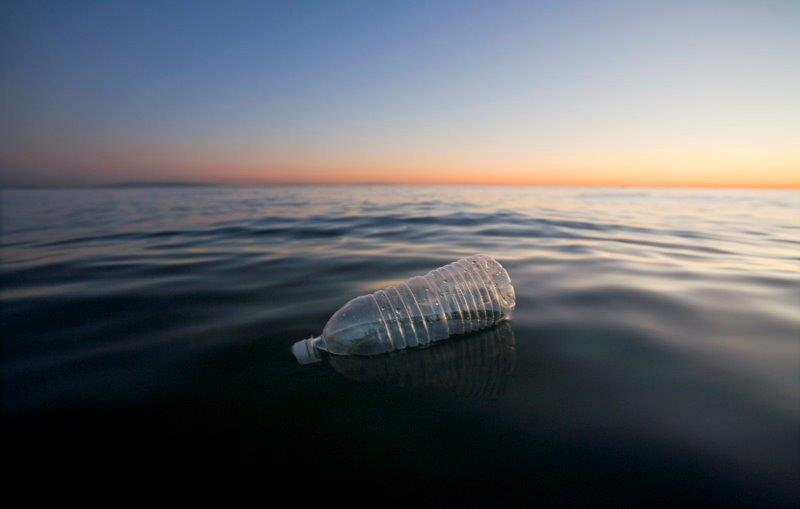plastic: (293, 250, 516, 364)
